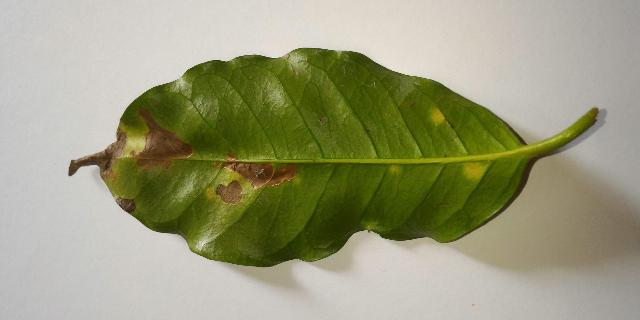cercospora: (206, 153, 296, 205), (130, 107, 194, 170), (68, 125, 127, 183), (117, 198, 136, 216), (467, 164, 481, 178), (432, 109, 445, 122), (391, 166, 396, 171)
